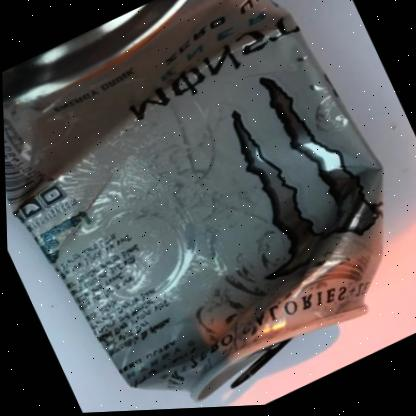Metal: (2, 0, 381, 401)
